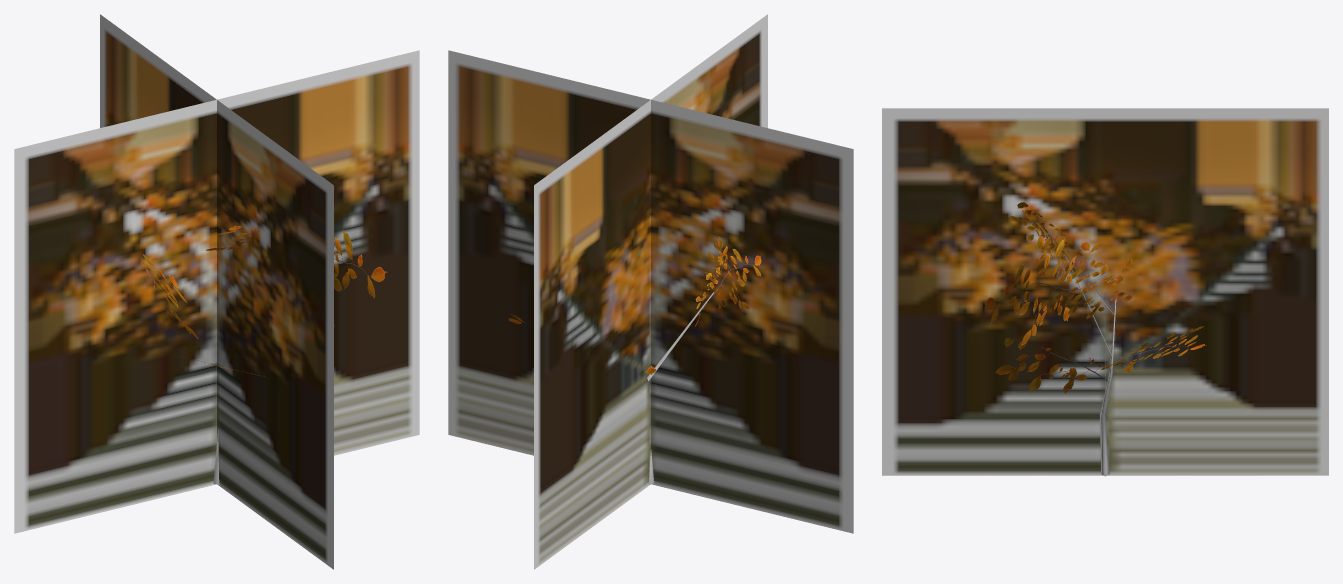
Rendered from Tree-Beech6C-mobile.fbx.
The picture shows the model from 3 angles, left to right: view 1: azimuth 30°, elevation 25°; view 2: azimuth 150°, elevation 25°; view 3: azimuth 270°, elevation 25°; orthographic projection. The views are drawn at different scales.
Visible parts, largest first — view 1: Billboard-BeechC, Tree-Beech6C-mobile_LOD0; view 2: Billboard-BeechC, Tree-Beech6C-mobile_LOD0; view 3: Billboard-BeechC, Tree-Beech6C-mobile_LOD0.
Boxes of the visible parts, x1,y1,x2,y2 form: Billboard-BeechC: (14, 14, 419, 569); Tree-Beech6C-mobile_LOD0: (141, 209, 387, 484); Billboard-BeechC: (448, 14, 853, 569); Tree-Beech6C-mobile_LOD0: (508, 237, 761, 484); Billboard-BeechC: (882, 108, 1328, 475); Tree-Beech6C-mobile_LOD0: (983, 202, 1206, 476).
Size of what is drawn, in the model's own units: 905 by 820 by 905.
